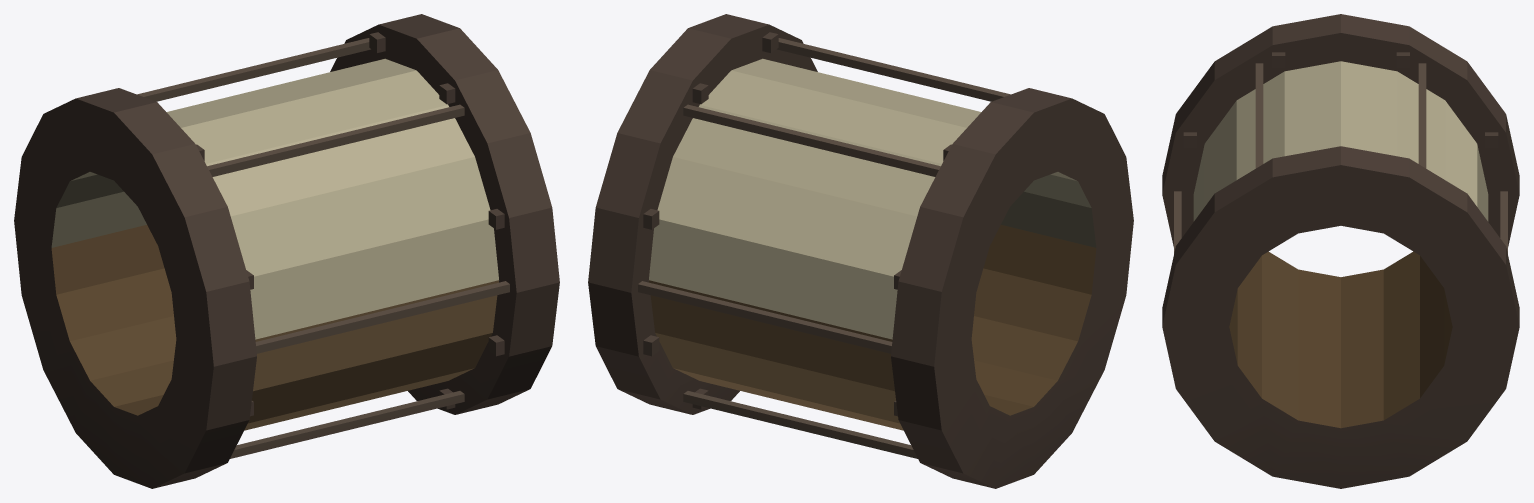
The model's file is pipe.glass.oil.glb.
The picture shows the model from 3 angles, left to right: view 1: azimuth 30°, elevation 25°; view 2: azimuth 150°, elevation 25°; view 3: azimuth 270°, elevation 25°; orthographic projection. The views are drawn at different scales.
Parts seen in each view (by area): view 1: pipe_glass_oil; view 2: pipe_glass_oil; view 3: pipe_glass_oil.
Boxes of the visible parts, x1,y1,x2,y2 form: pipe_glass_oil: [14, 14, 559, 488]; pipe_glass_oil: [588, 14, 1133, 488]; pipe_glass_oil: [1162, 14, 1519, 488].
Size of what is drawn, in the model's own units: 1.6 by 1.6 by 1.6.
